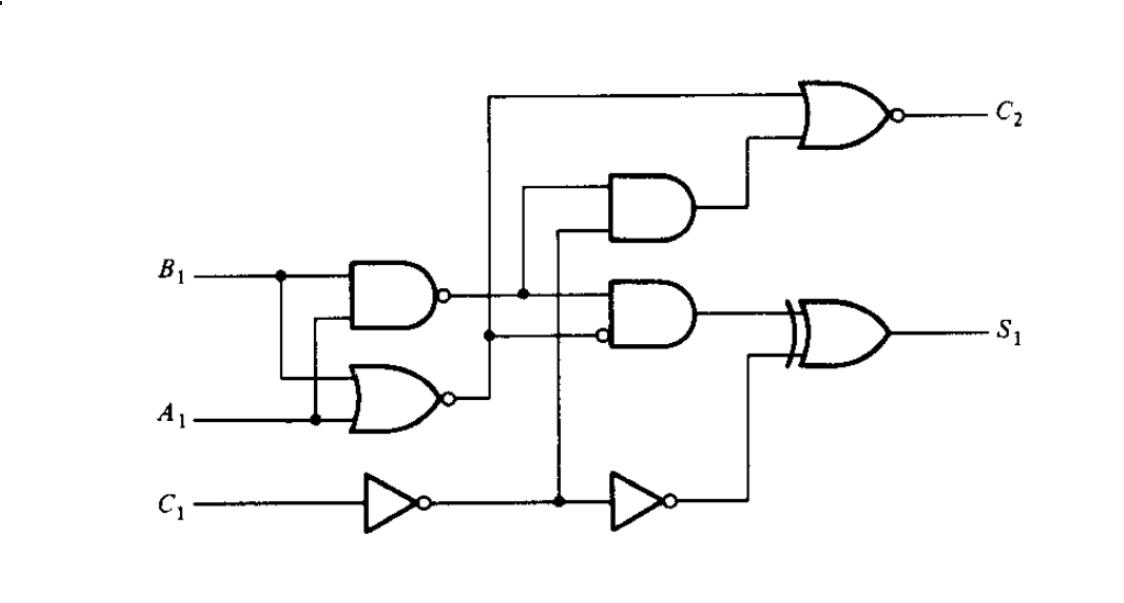and: (601, 166, 704, 249)
nand: (343, 255, 458, 337)
nor: (790, 74, 912, 158), (342, 358, 464, 440)
not: (357, 467, 439, 540), (603, 465, 684, 538)
xor: (778, 292, 899, 376)
